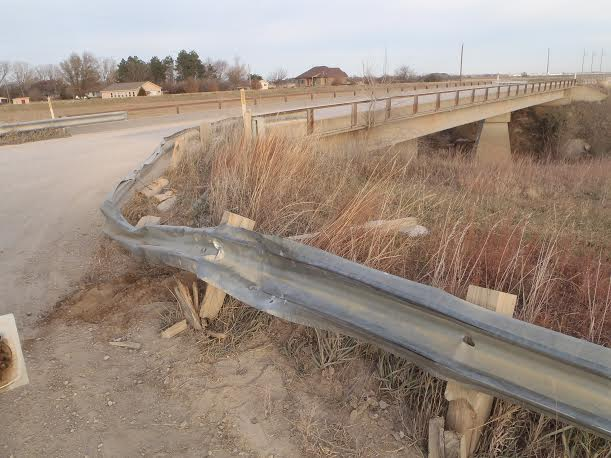damaged: (87, 148, 309, 318)
